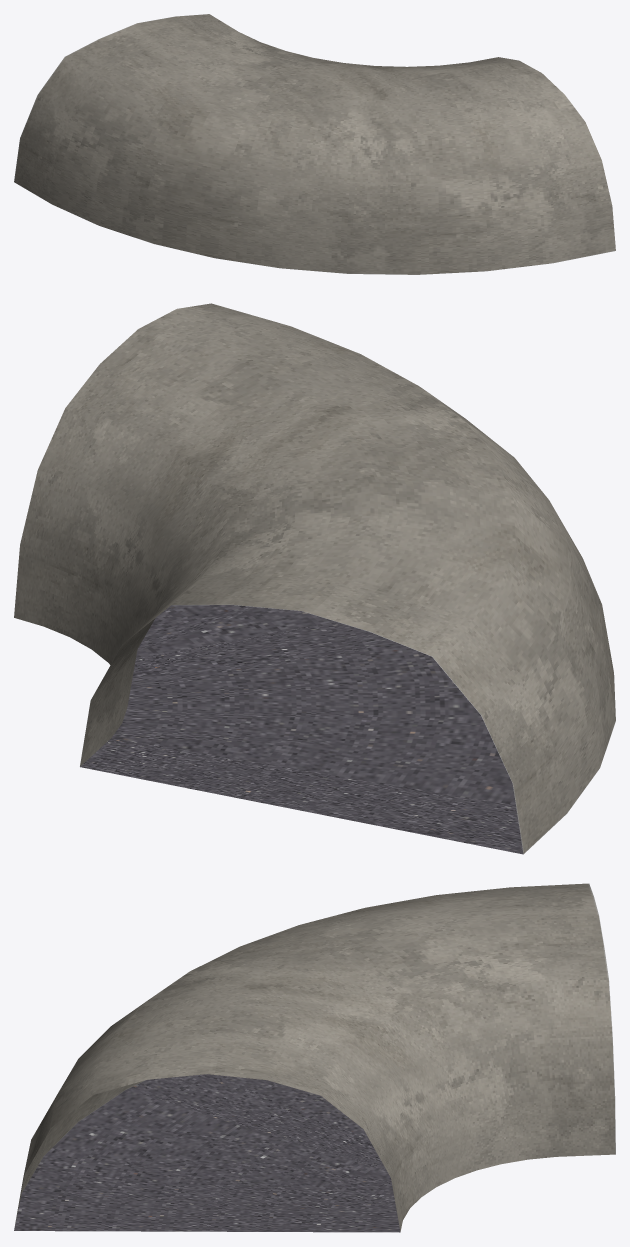
The picture shows the model from 3 angles, top to bottom: view 1: azimuth 30°, elevation 25°; view 2: azimuth 150°, elevation 25°; view 3: azimuth 270°, elevation 25°; orthographic projection. The views are drawn at different scales.
Visible parts, largest first — view 1: polySurface5; view 2: polySurface5; view 3: polySurface5.
Boxes of the visible parts, x1,y1,x2,y2 form: polySurface5: (14, 14, 615, 274); polySurface5: (14, 303, 615, 854); polySurface5: (14, 883, 615, 1232).
Size of the model in its own units: 2.95 by 0.8999 by 3.12.
1 material, 1 textured.
